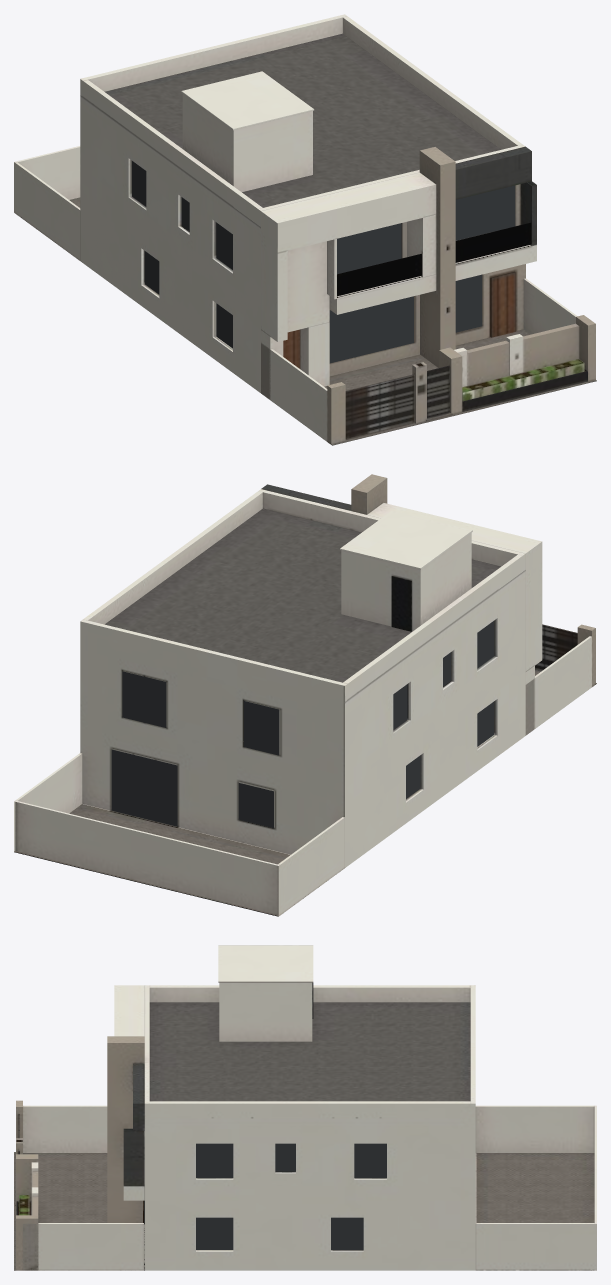
File: house_C_lod1.glb
3 renders of one model, top to bottom at view 1: azimuth 30°, elevation 25°; view 2: azimuth 150°, elevation 25°; view 3: azimuth 270°, elevation 25°, orthographic. The views are drawn at different scales.
Visible parts, largest first — view 1: body, glass; view 2: body, glass; view 3: body, glass.
Part boxes in pixels (x1,y1,x2,y2): body: [14, 14, 596, 445]; glass: [132, 161, 515, 363]; body: [14, 474, 596, 916]; glass: [111, 621, 493, 828]; body: [14, 945, 596, 1270]; glass: [196, 1143, 386, 1249].
Bounding box in the file's own units: 12 × 10.05 × 25.
Materials: 2 (1 with a texture image).
